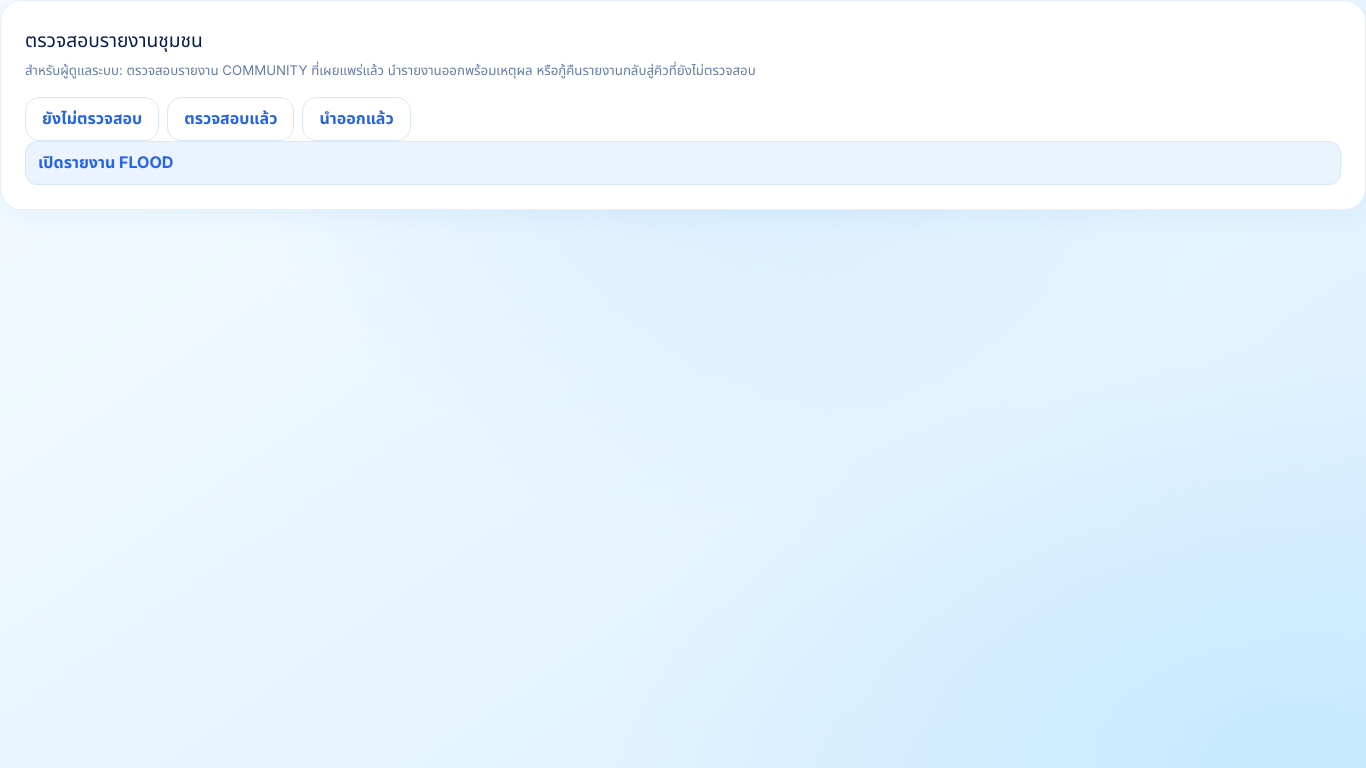
community review confirmations › does not reopen a detail after its queue changes
The image size is (1366, 768).
Click the button "เปิดรายงาน FLOOD". click: (106, 162)
box: top-left (25, 141), bottom-right (1341, 185)
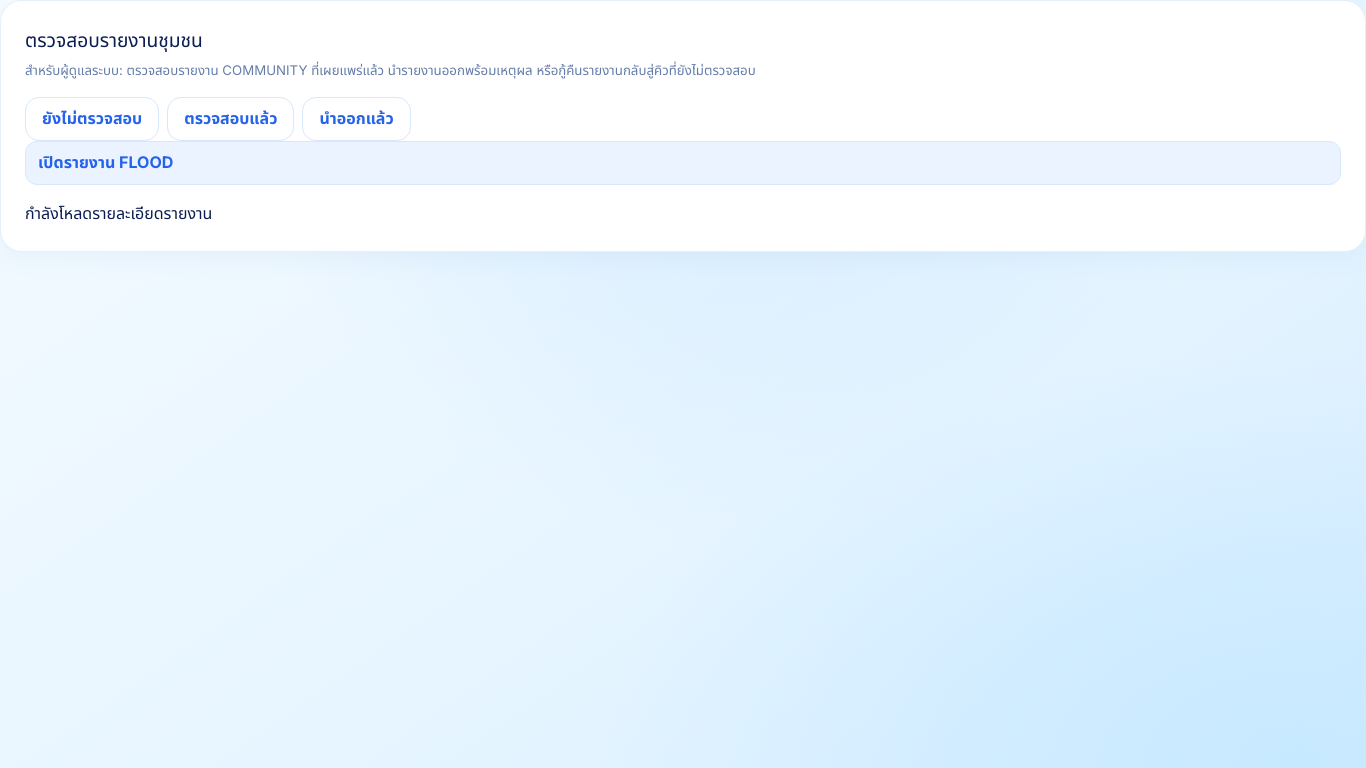
Click the button "นำออกแล้ว". click: (357, 119)
box: top-left (302, 97), bottom-right (411, 141)
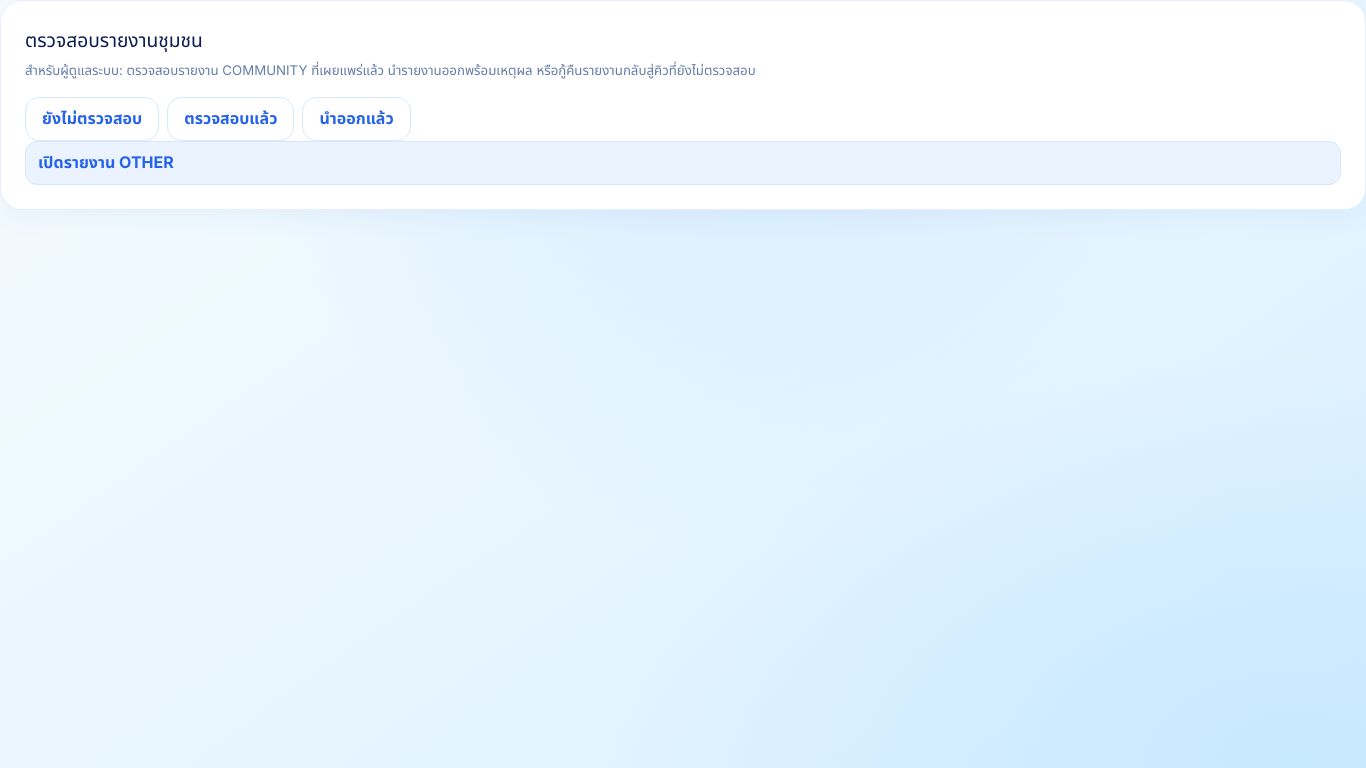
Result: the button "เปิดรายงาน OTHER" is shown at top-left (25, 141), bottom-right (1341, 185)
